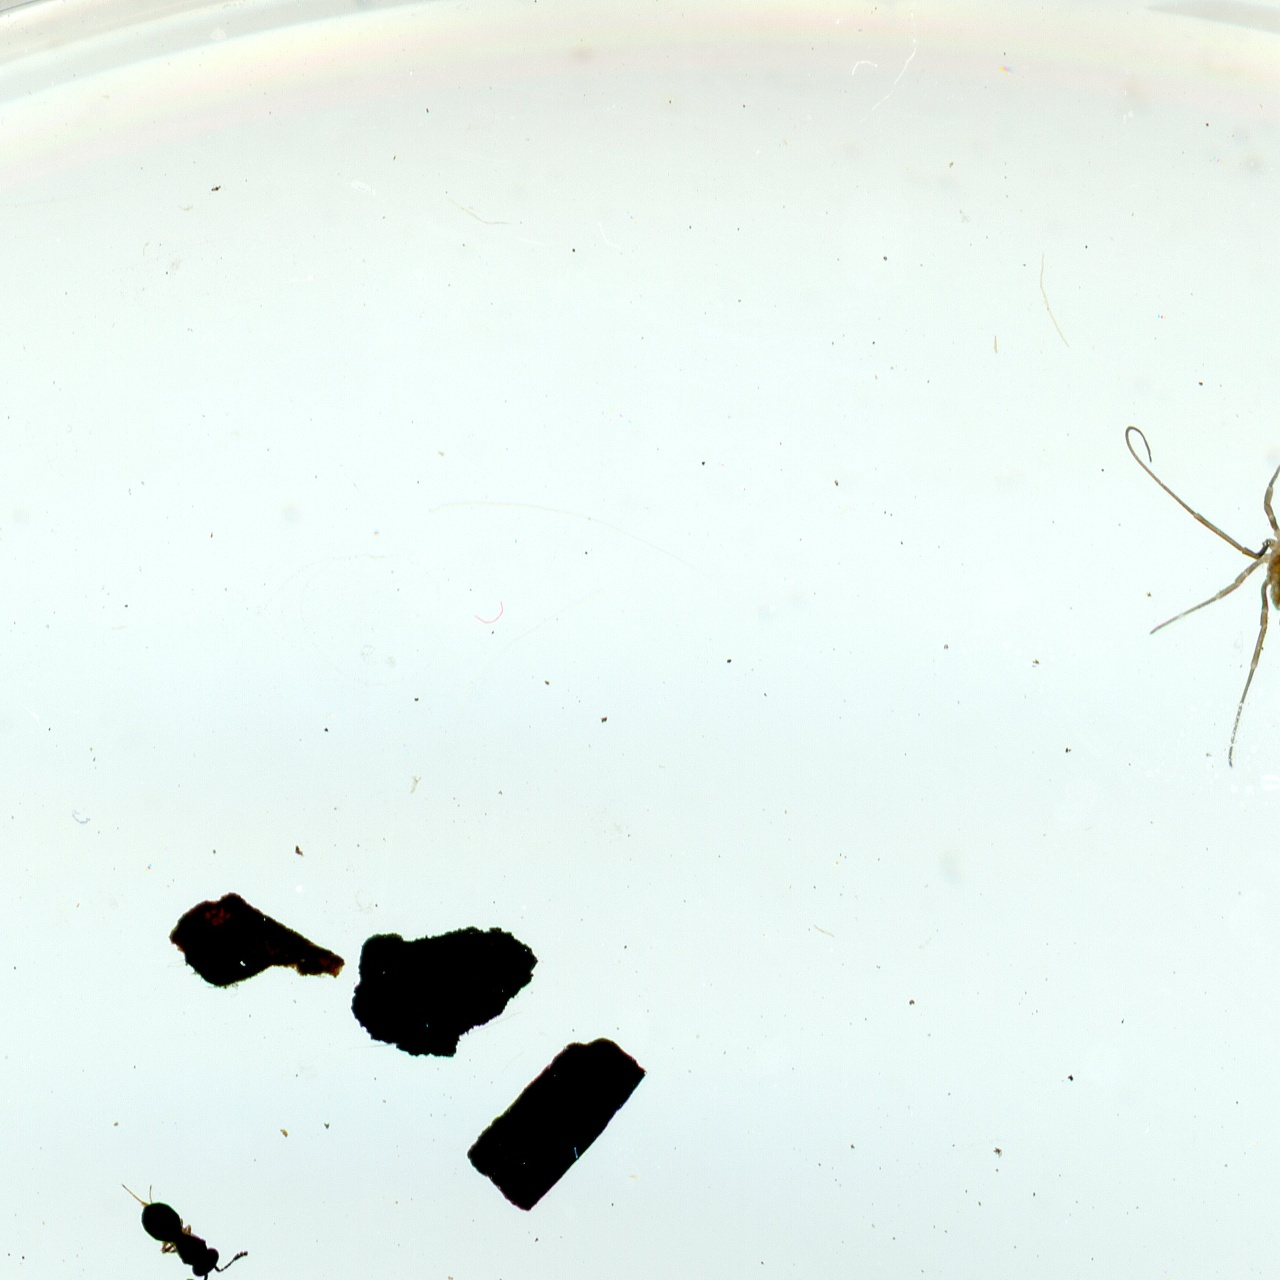arthropod: (1113, 419, 1280, 774), (115, 1179, 252, 1280)
